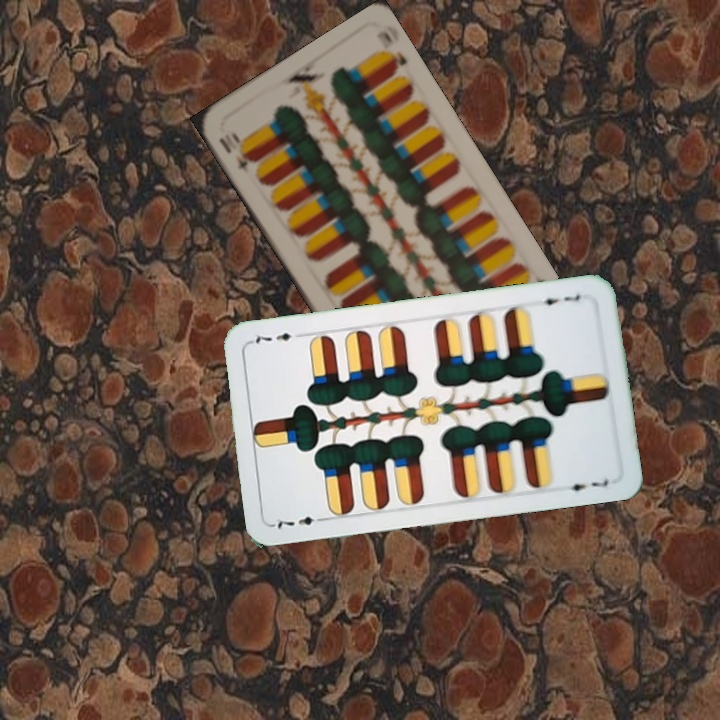E10: (227, 128, 257, 176)
E7: (270, 512, 329, 532), (533, 291, 583, 308)
